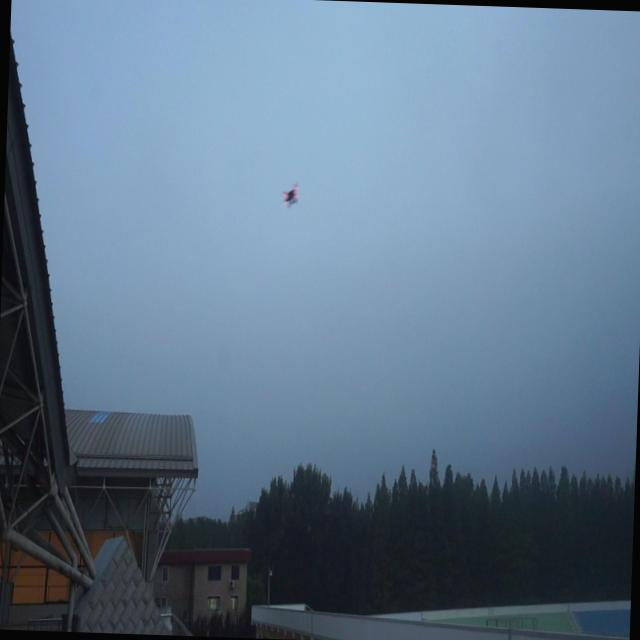drone: (282, 181, 300, 211)
